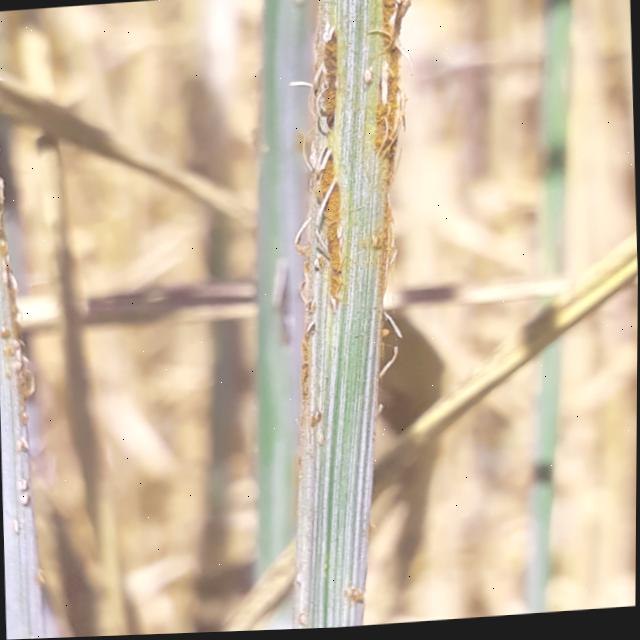black_stem_rust: (232, 0, 468, 633), (0, 18, 93, 640)
